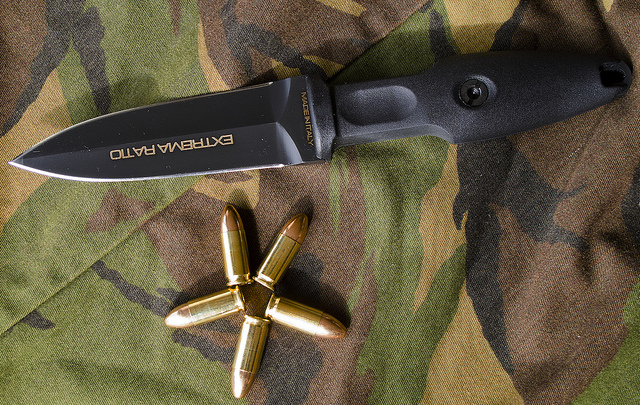knife: (3, 59, 337, 192)
